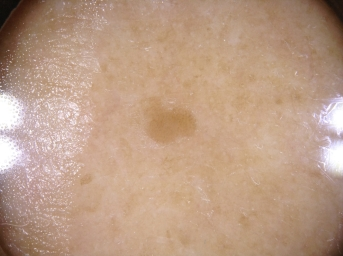seborrheic keratosis: (135, 85, 204, 152)
